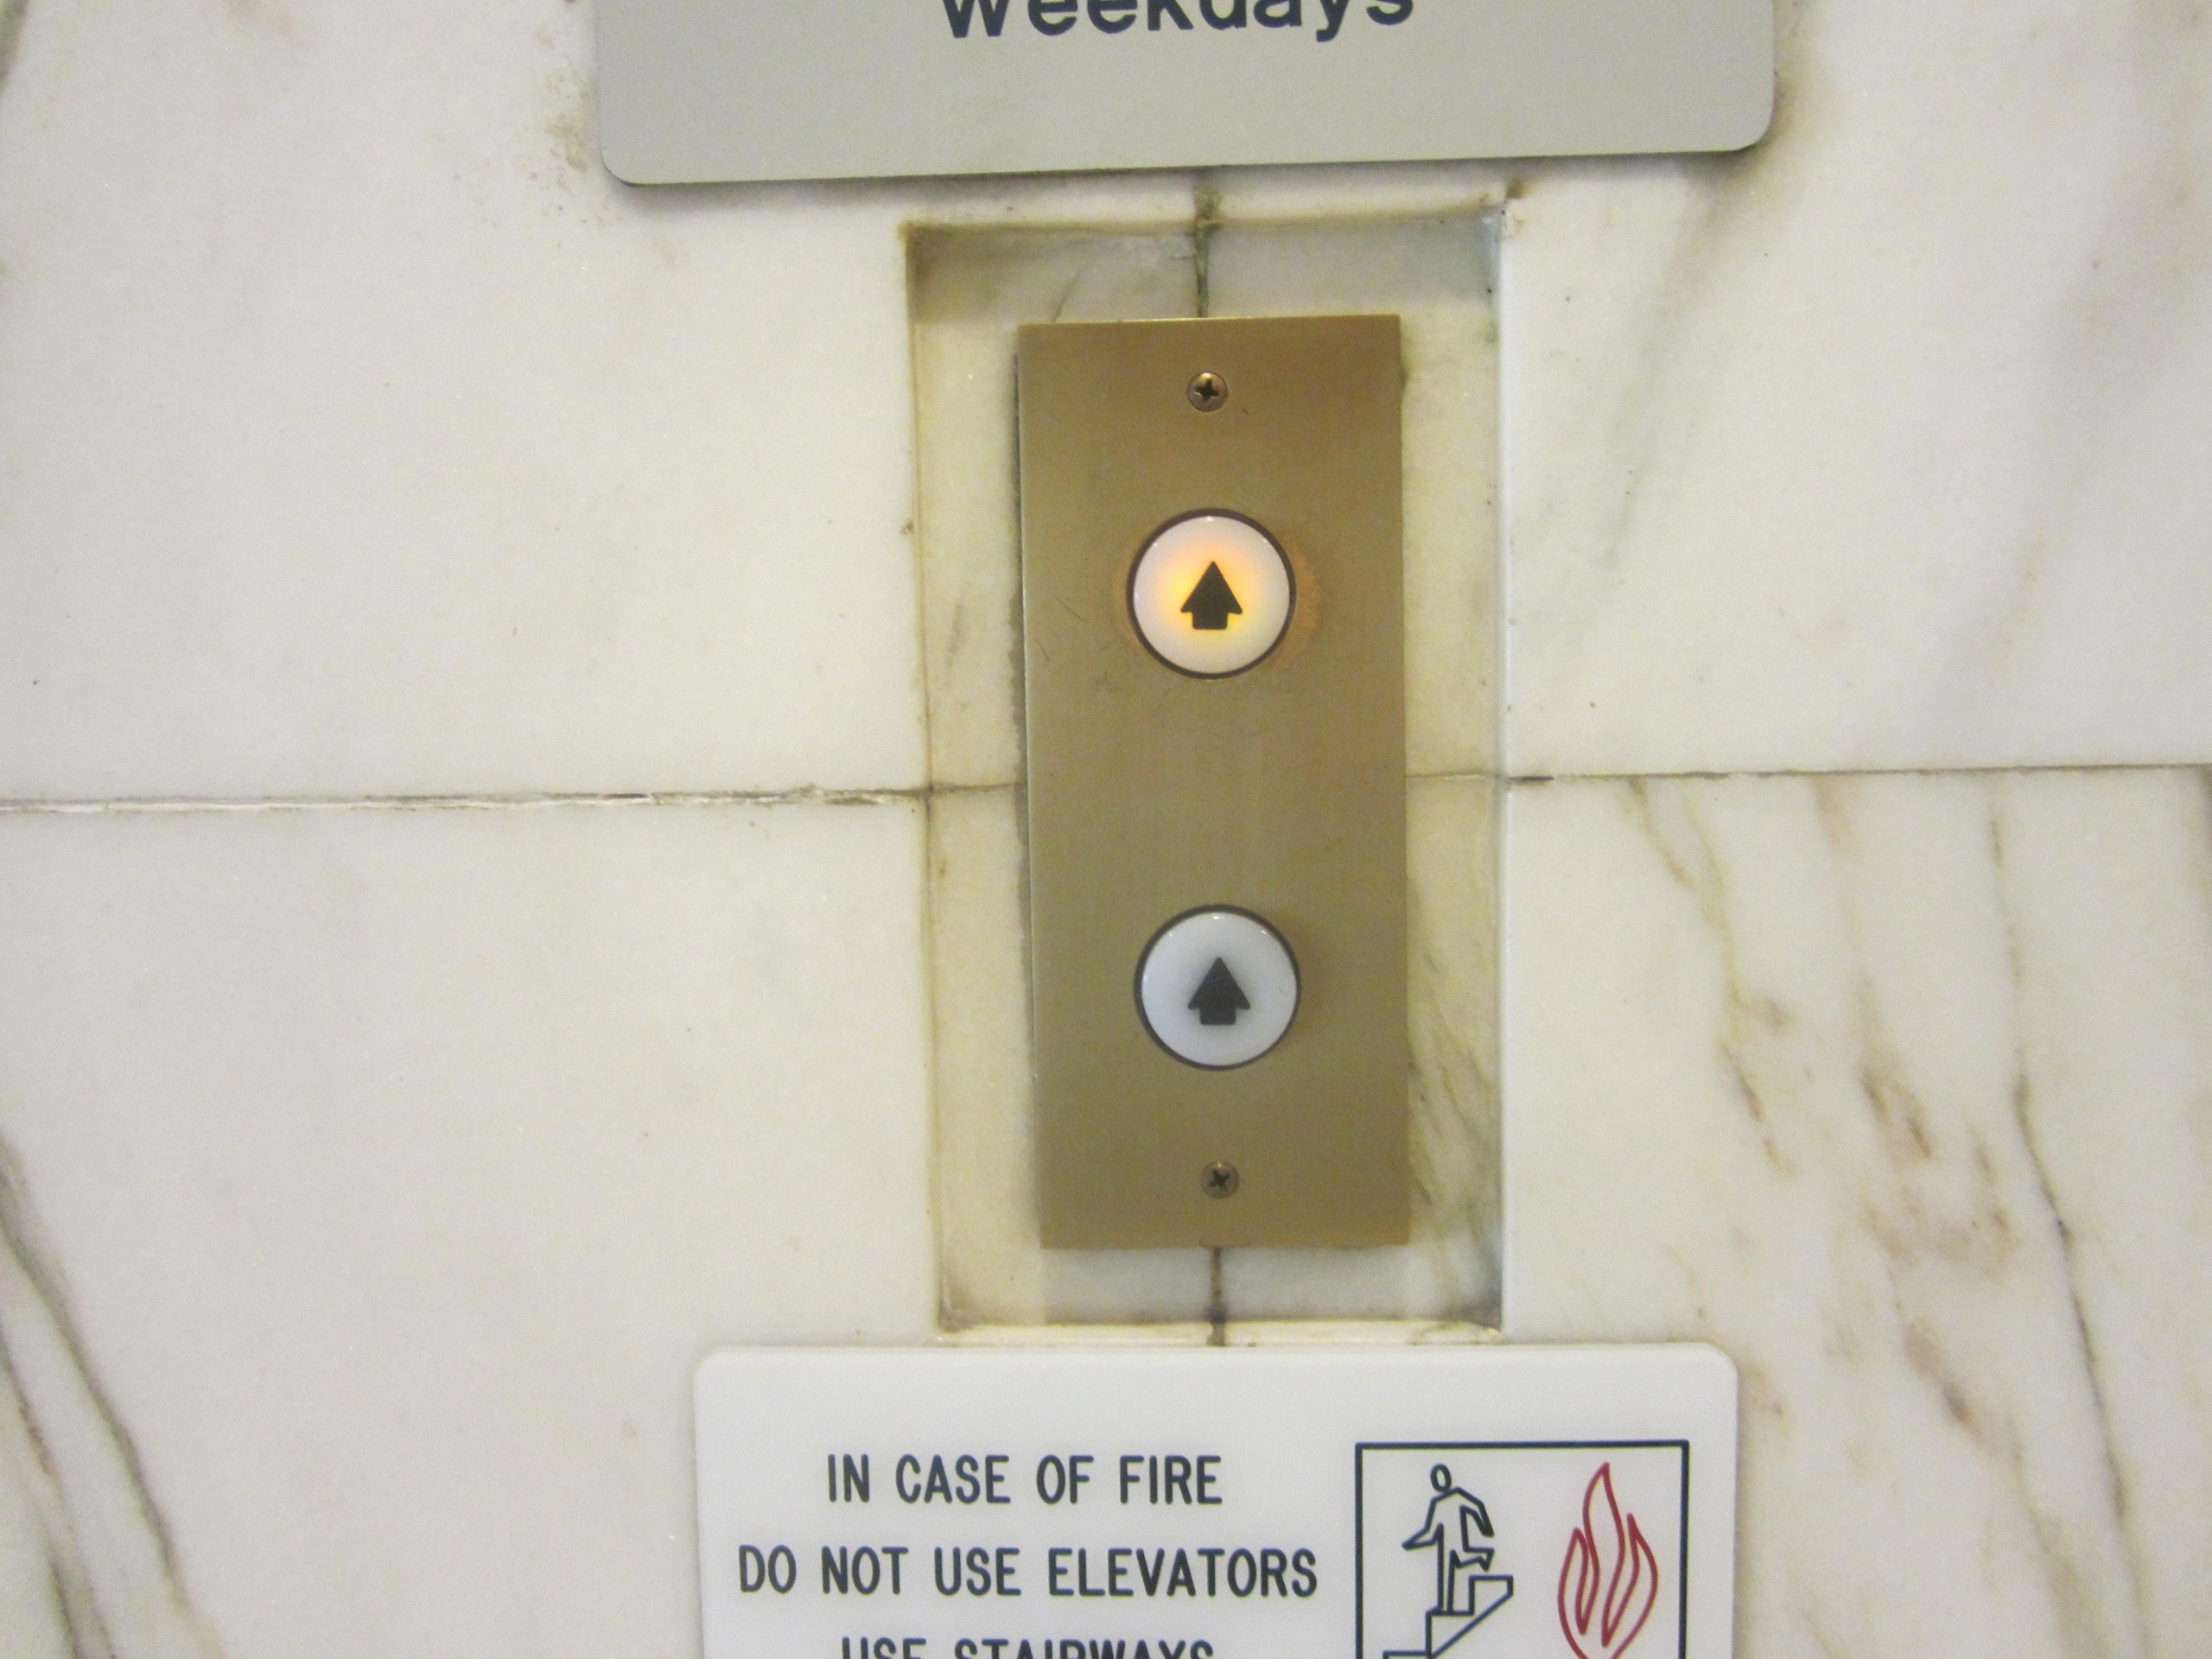down: (1129, 901, 1299, 1073)
up: (1125, 505, 1301, 681)
